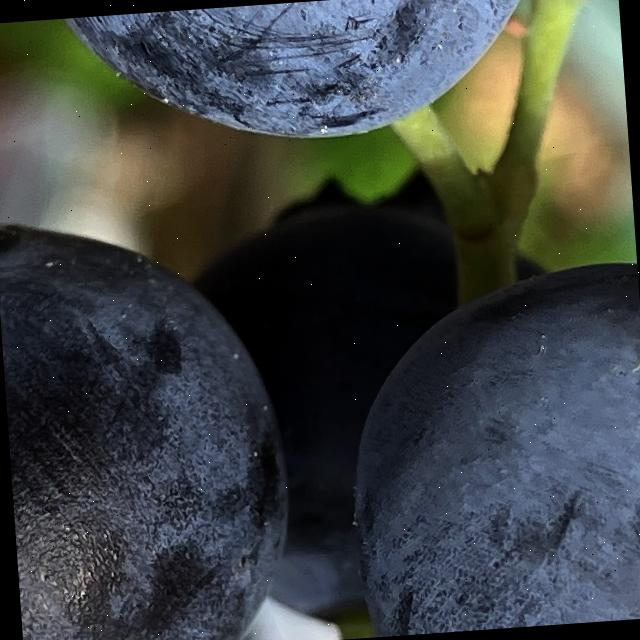Blueberries: (20, 0, 574, 157)
